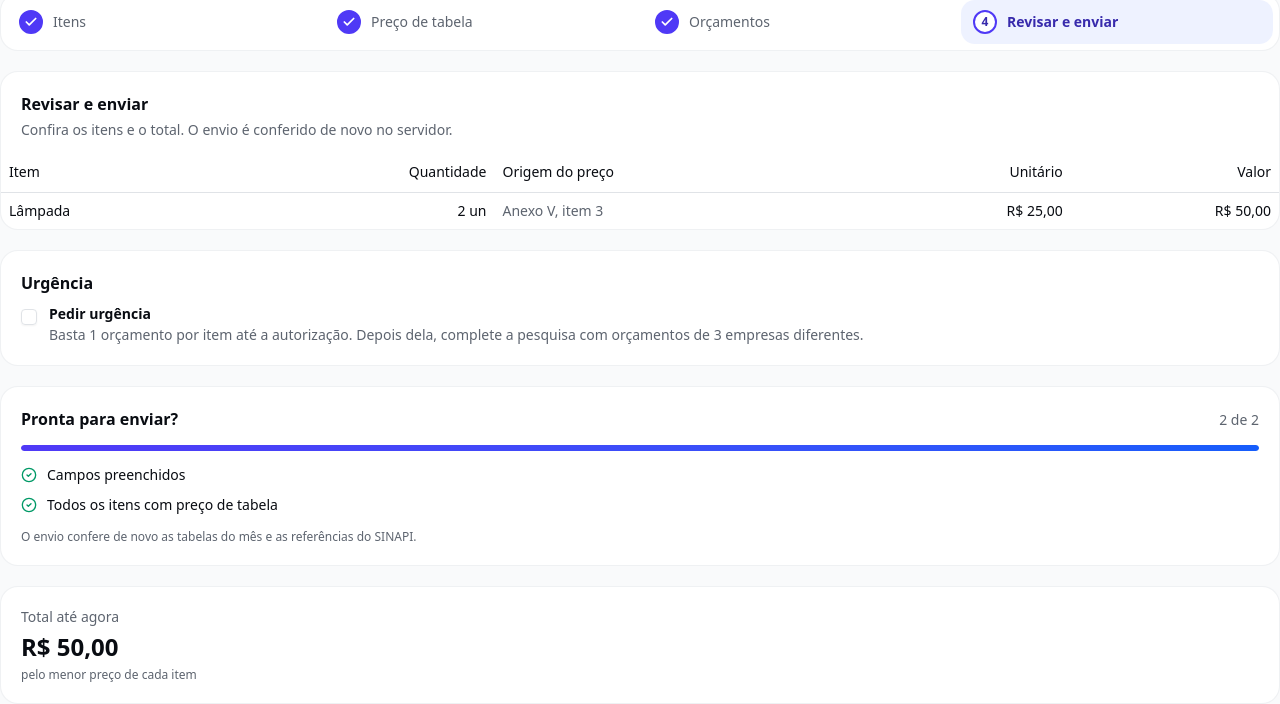
urgência pedida no envio › justificativa curta barra o envio antes de salvar, e a lista acusa
The width and height of the screenshot is (1280, 704).
Click the checkbox named "Pedir urgência" at (29,316), box 21,308 -> 37,324
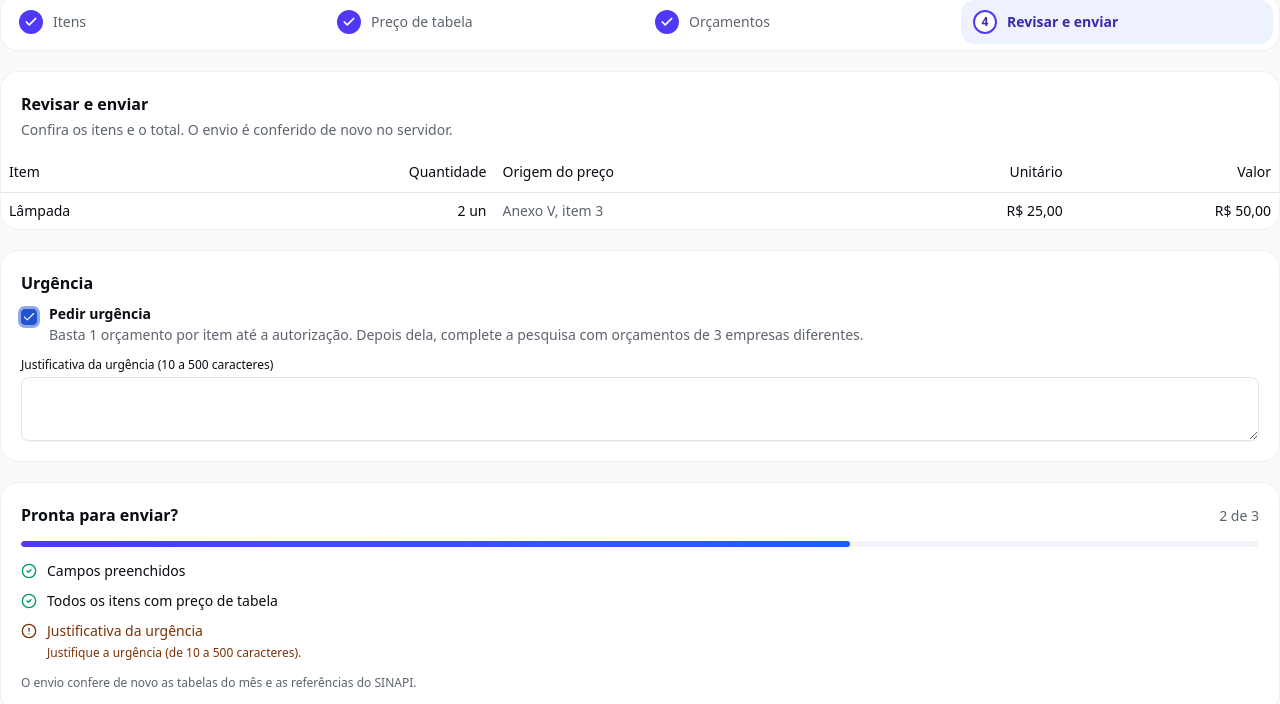
Type "curta" into the text box labelled "Justificativa da urgência (10 a 500 caracteres)" at (640,408), box 21,376 -> 1259,440
(page scrolled)
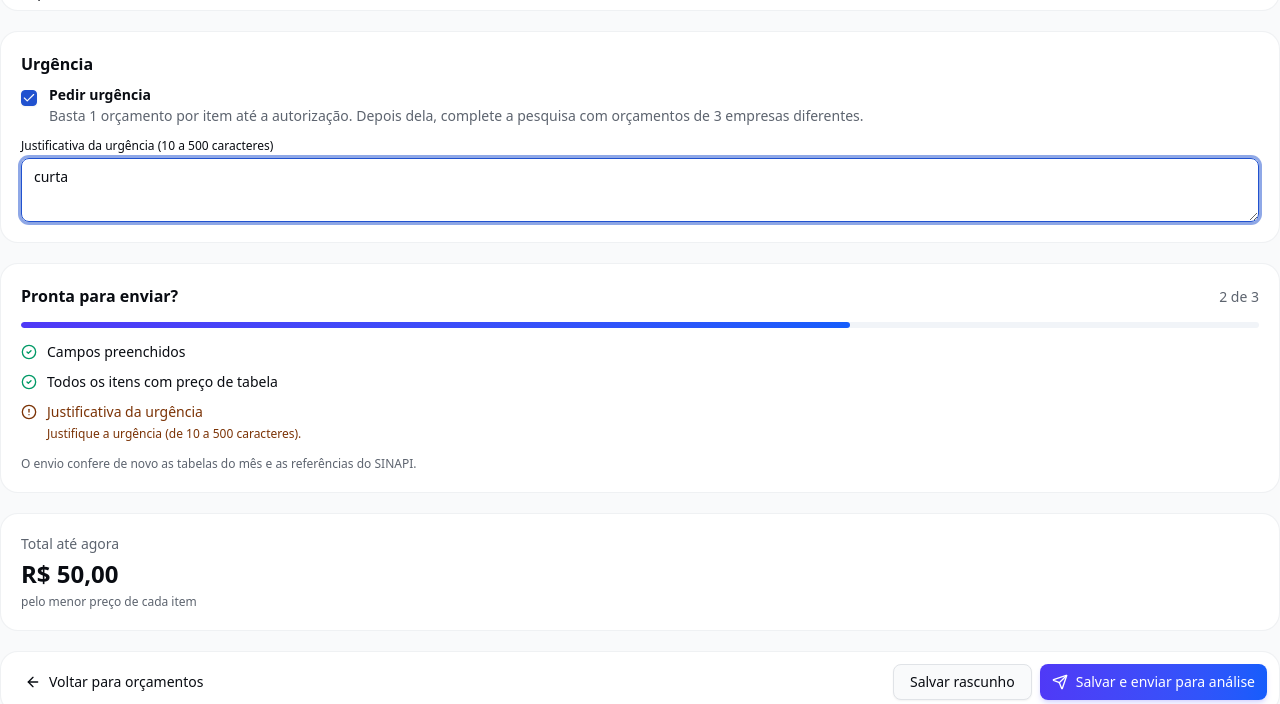
Click the button "Salvar e enviar para análise" at (1153,682), box 1040,664 -> 1267,700
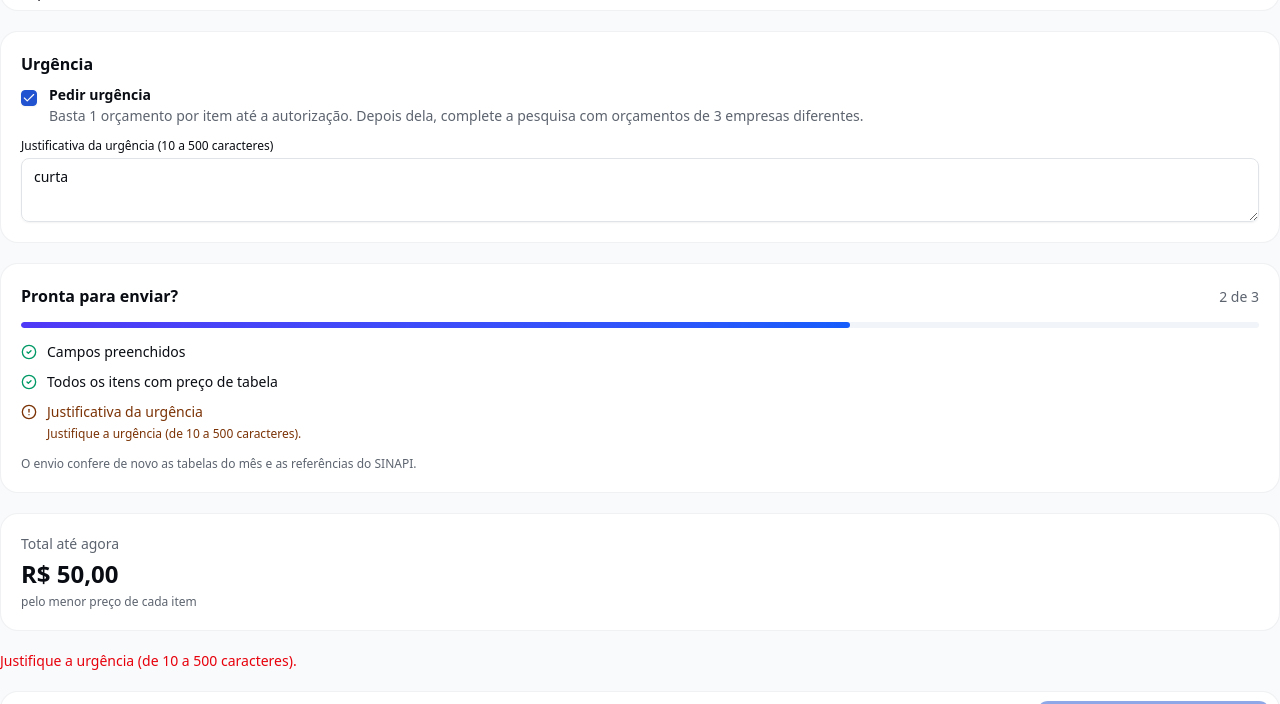
Now the message shows "Justifique a urgência", box 0,650 -> 297,670
